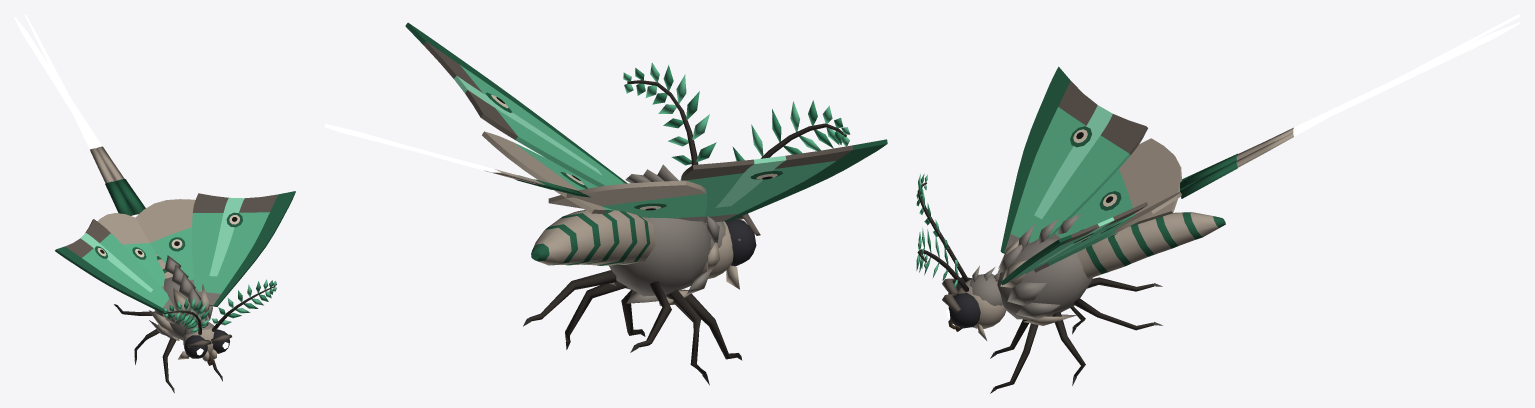
Rendered from moth-comet.glb.
The picture shows the model from 3 angles, left to right: view 1: azimuth 30°, elevation 25°; view 2: azimuth 150°, elevation 25°; view 3: azimuth 270°, elevation 25°; orthographic projection. The views are drawn at different scales.
Visible parts, largest first — view 1: glide_wing_0, glide_wing_1, body, sway_feeler_l, turn_head, sway_feeler_r, wave_tail_r_0, wave_tail_l_0, wave_tail_l_2, wave_tail_l_1, wave_tail_r_1, blink_eye_r (+2 smaller); view 2: glide_wing_1, body, glide_wing_0, pulse_abdomen, sway_feeler_l, sway_feeler_r, turn_head, blink_eye_r, wave_tail_r_0; view 3: glide_wing_1, body, pulse_abdomen, glide_wing_0, turn_head, wave_tail_l_0, sway_feeler_l, blink_eye_l, wave_tail_r_0, wave_tail_r_2, sway_feeler_r, wave_tail_r_1.
Boxes of the visible parts, x1=… form: glide_wing_0: x1=135, y1=191, x2=295, y2=306; glide_wing_1: x1=55, y1=213, x2=175, y2=316; body: x1=114, y1=255, x2=222, y2=393; sway_feeler_l: x1=211, y1=279, x2=276, y2=331; turn_head: x1=178, y1=313, x2=231, y2=365; sway_feeler_r: x1=163, y1=297, x2=209, y2=335; wave_tail_r_0: x1=90, y1=148, x2=135, y2=215; wave_tail_l_0: x1=96, y1=146, x2=145, y2=214; wave_tail_l_2: x1=14, y1=17, x2=58, y2=83; wave_tail_l_1: x1=54, y1=81, x2=102, y2=147; wave_tail_r_1: x1=58, y1=81, x2=95, y2=149; blink_eye_r: x1=184, y1=335, x2=207, y2=358; glide_wing_1: x1=548, y1=139, x2=887, y2=222; body: x1=523, y1=164, x2=742, y2=385; glide_wing_0: x1=405, y1=22, x2=627, y2=213; pulse_abdomen: x1=531, y1=210, x2=655, y2=265; sway_feeler_l: x1=623, y1=62, x2=716, y2=165; sway_feeler_r: x1=732, y1=100, x2=850, y2=161; turn_head: x1=700, y1=213, x2=760, y2=289; blink_eye_r: x1=725, y1=219, x2=756, y2=266; wave_tail_r_0: x1=493, y1=169, x2=590, y2=197; glide_wing_1: x1=1000, y1=66, x2=1181, y2=253; body: x1=990, y1=213, x2=1162, y2=393; pulse_abdomen: x1=1077, y1=212, x2=1225, y2=278; glide_wing_0: x1=1000, y1=192, x2=1181, y2=285; turn_head: x1=942, y1=265, x2=1006, y2=340; wave_tail_l_0: x1=1180, y1=132, x2=1293, y2=198; sway_feeler_l: x1=916, y1=227, x2=968, y2=292; blink_eye_l: x1=946, y1=293, x2=980, y2=328; wave_tail_r_0: x1=1180, y1=127, x2=1293, y2=188; wave_tail_r_2: x1=1406, y1=22, x2=1520, y2=79; sway_feeler_r: x1=916, y1=174, x2=968, y2=281; wave_tail_r_1: x1=1293, y1=75, x2=1407, y2=131.
Bounding box in the file's own units: 0.8295 × 0.7946 × 1.21.
